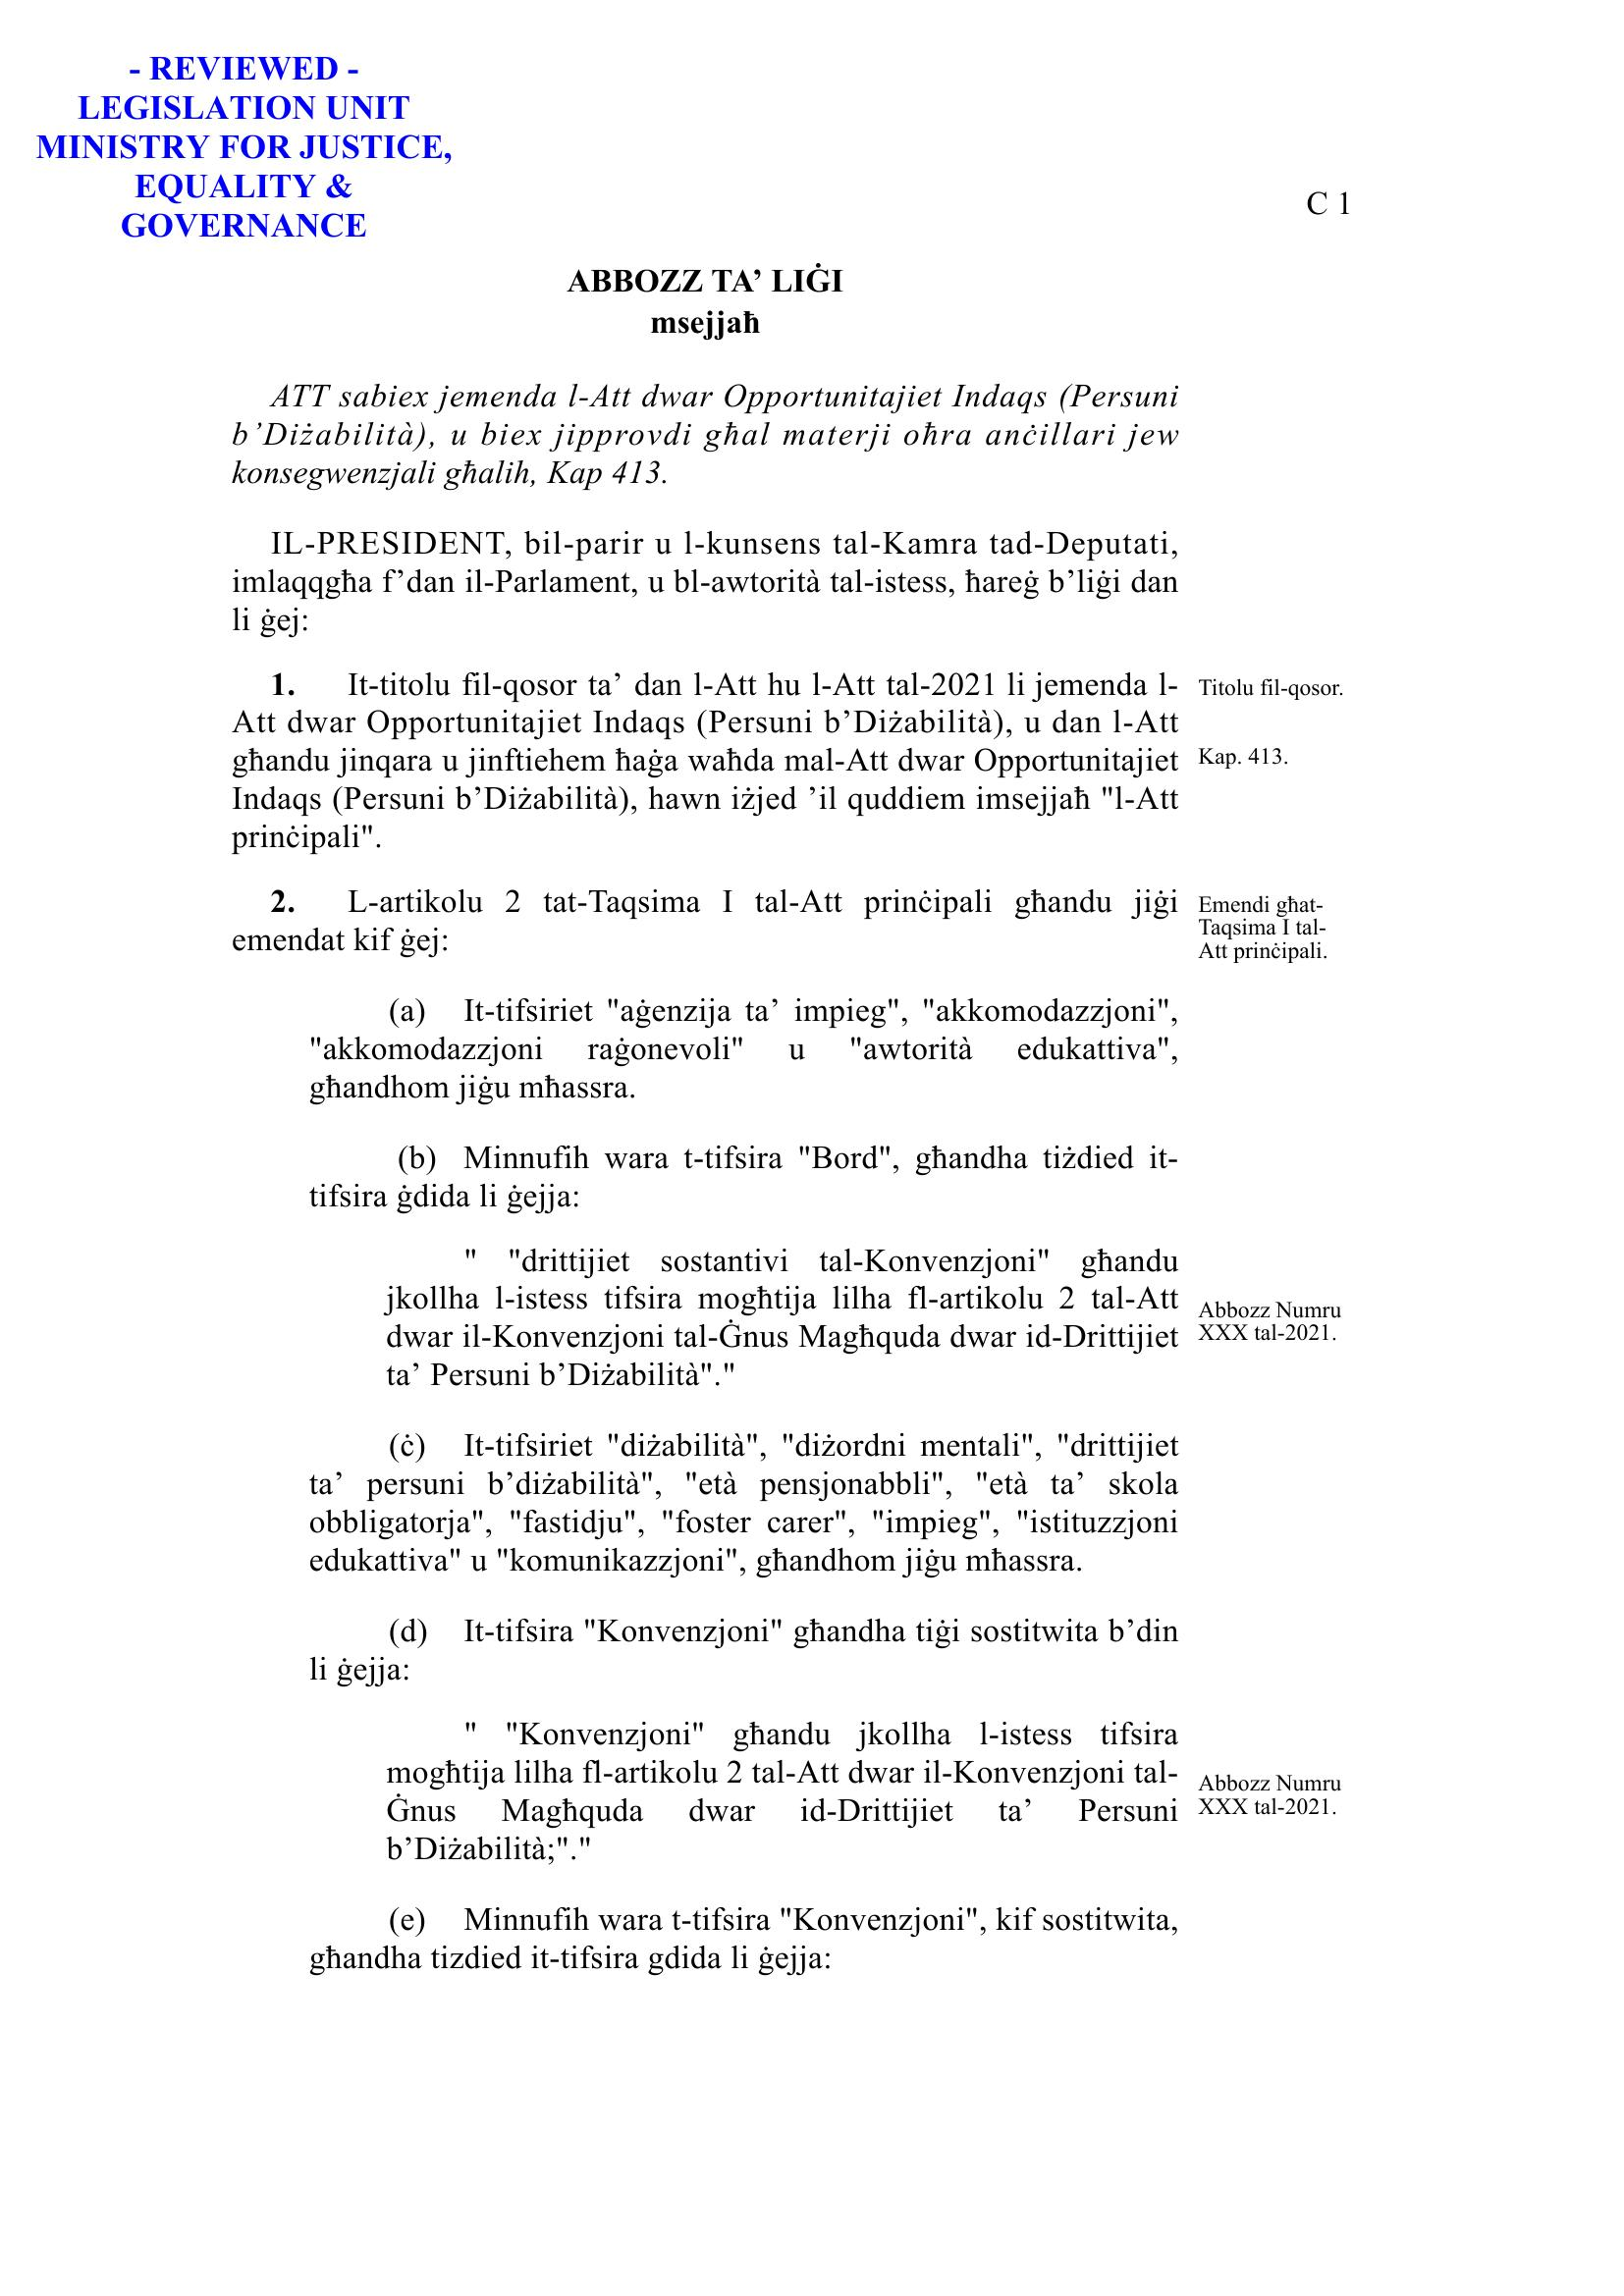text: (204, 249, 1193, 2003)
